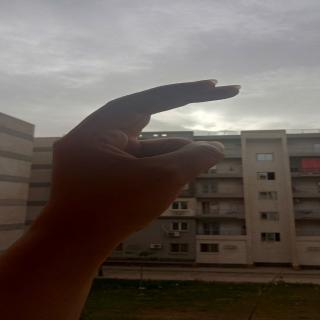ZAY: (48, 78, 276, 214)
